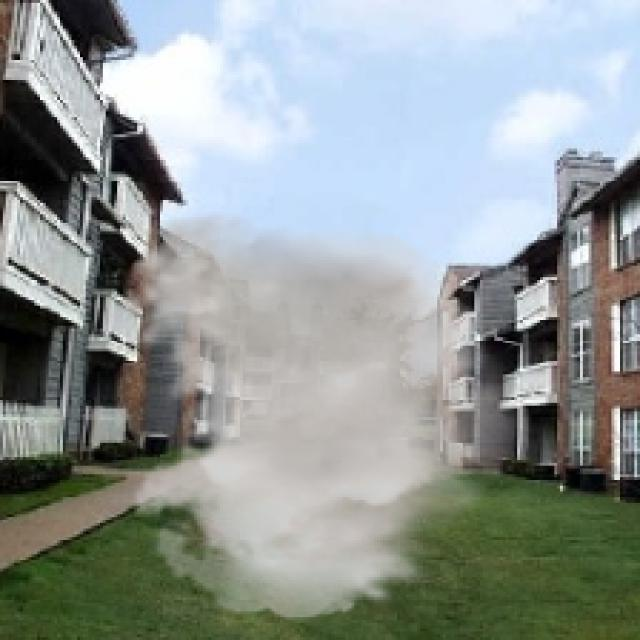smoke: (117, 211, 540, 620)
